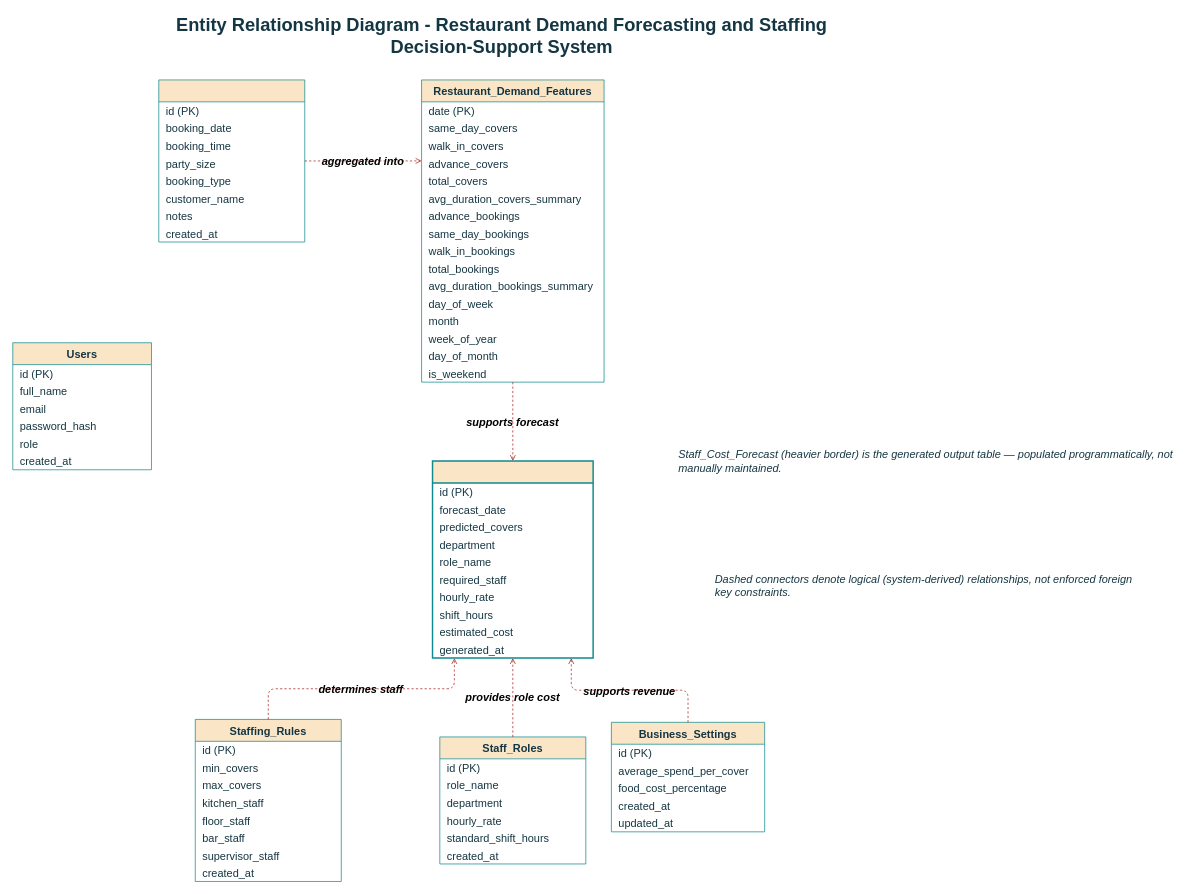
Some shapes in this 1201 by 894 pixel diagram are drawn without their labels. Each missing label, with the box of its shape:
Bookings: (158, 79, 305, 242)
Staff_Cost_Forecast: (431, 460, 593, 658)
